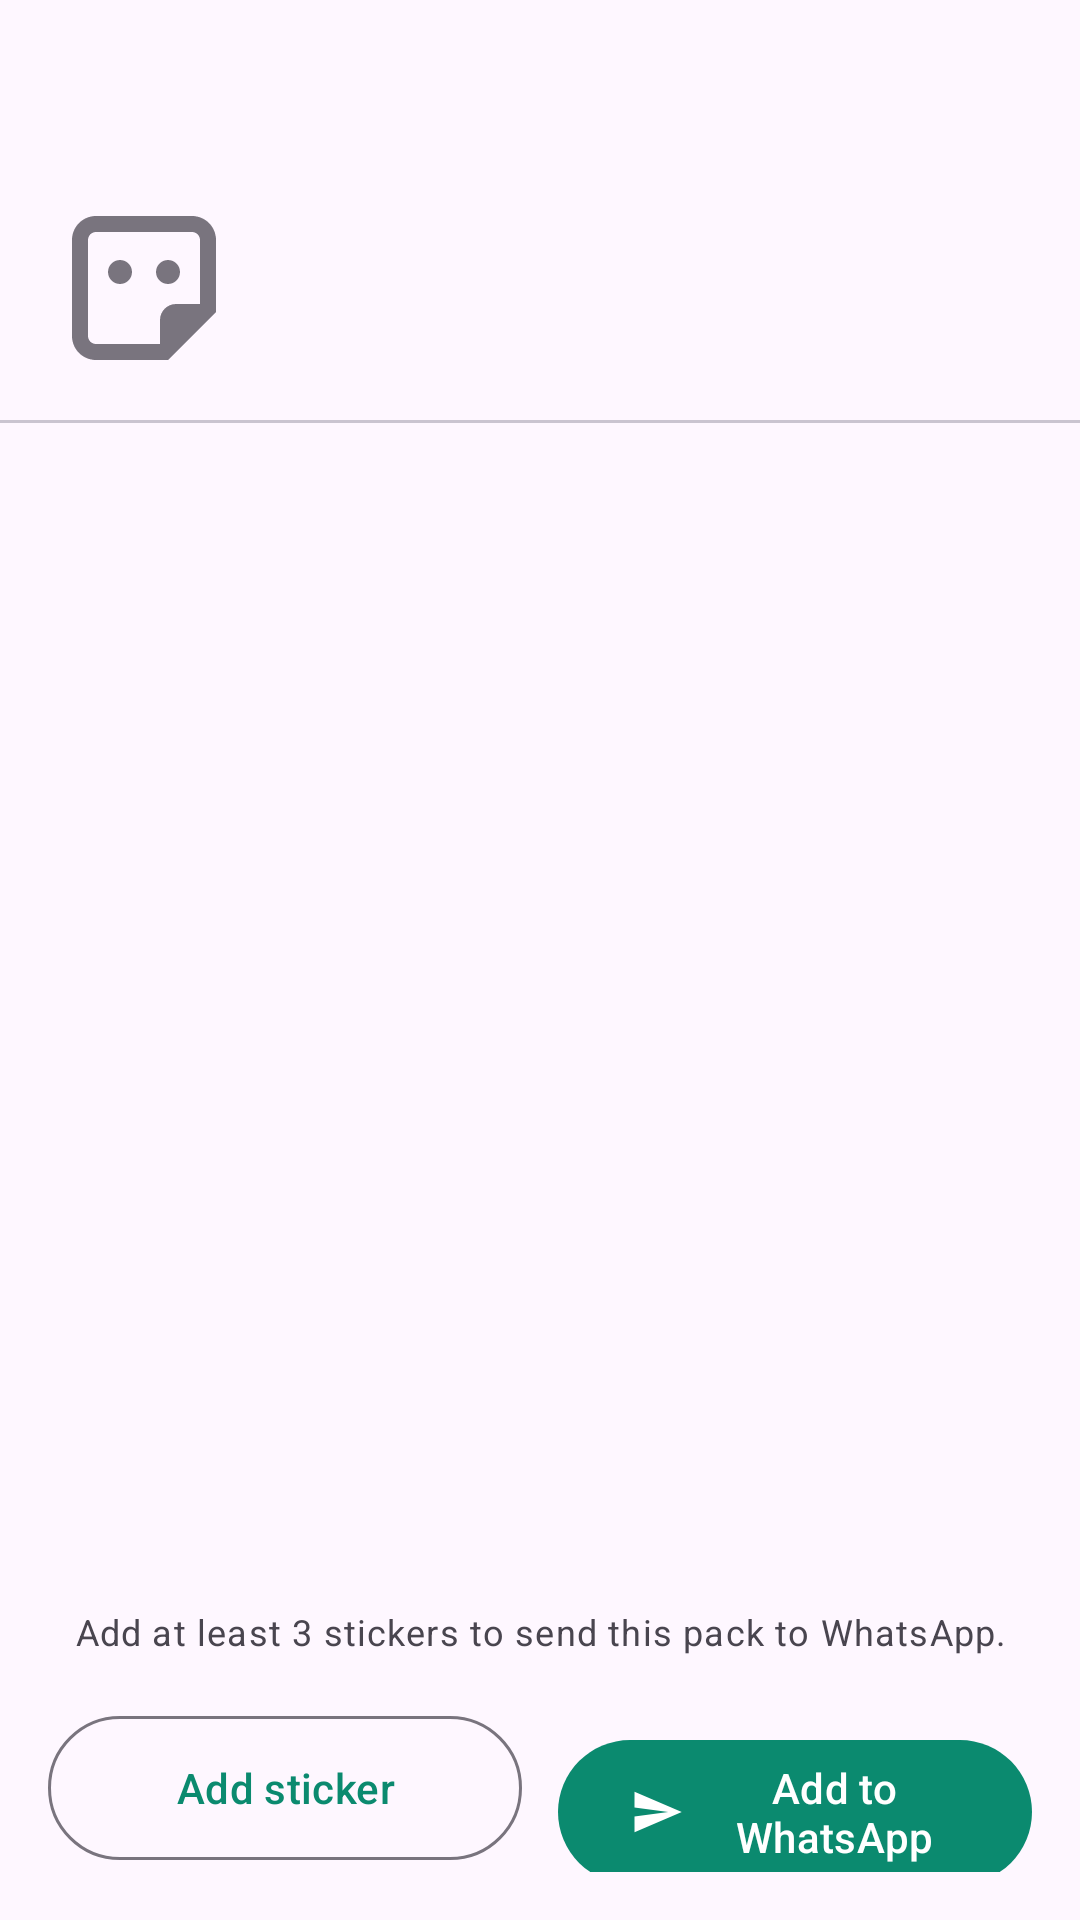

Where icons sit on this 1080×1920 app screen, as (x1, y1, x2, y2):
sticker: (72, 216, 216, 360)
